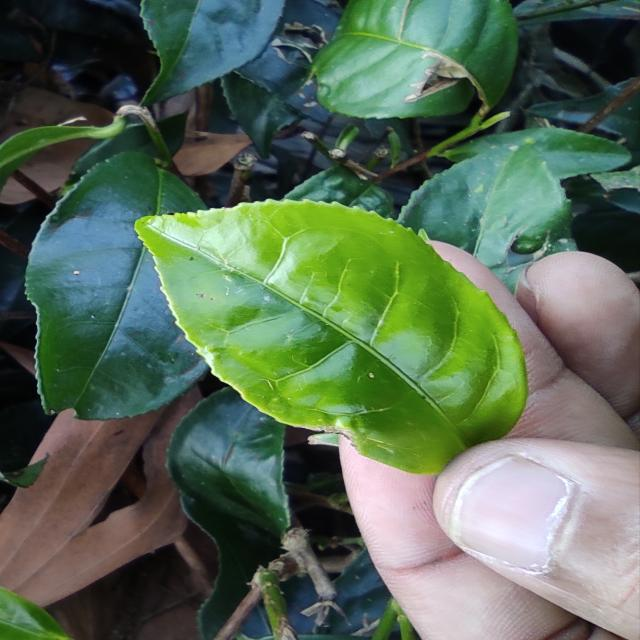Category C 4-7 days: (122, 177, 555, 480)
